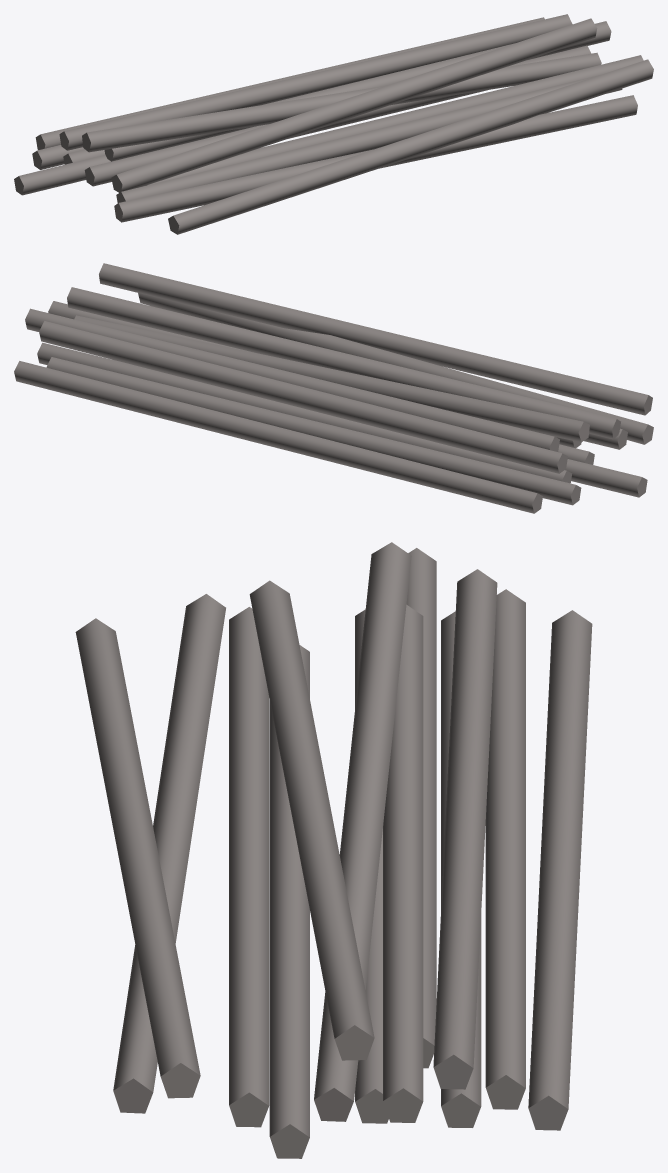
File: SM_Pipe_03.fbx
The picture shows the model from 3 angles, top to bottom: view 1: azimuth 30°, elevation 25°; view 2: azimuth 150°, elevation 25°; view 3: azimuth 270°, elevation 25°; orthographic projection. The views are drawn at different scales.
Visible parts, largest first — view 1: SM_Pipe_03; view 2: SM_Pipe_03; view 3: SM_Pipe_03.
Part boxes in pixels (x1=…): SM_Pipe_03: x1=14, y1=14, x2=653, y2=234; SM_Pipe_03: x1=14, y1=263, x2=653, y2=513; SM_Pipe_03: x1=75, y1=542, x2=592, y2=1158.
Bounding box in the file's own units: 325 × 27.4 × 123.
